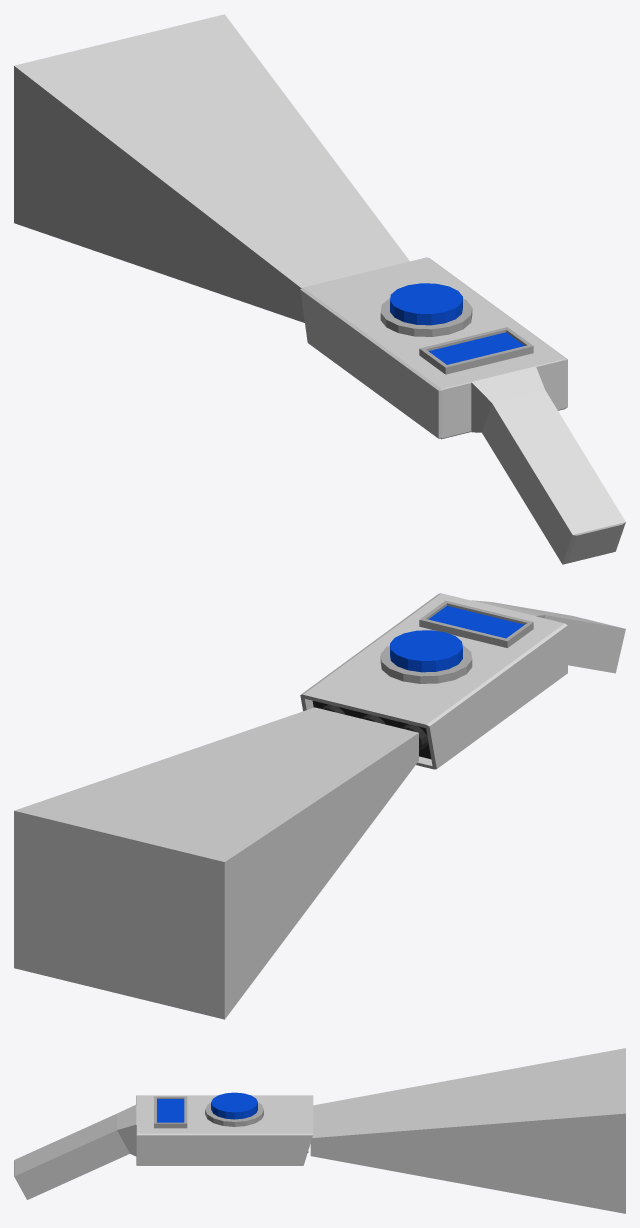
The model's file is PHMeterGun.fbx.
The picture shows the model from 3 angles, top to bottom: view 1: azimuth 30°, elevation 25°; view 2: azimuth 150°, elevation 25°; view 3: azimuth 270°, elevation 25°; orthographic projection. The views are drawn at different scales.
Visible parts, largest first — view 1: Beam Effector, Portal Gun; view 2: Beam Effector, Portal Gun; view 3: Beam Effector, Portal Gun.
Boxes of the visible parts, x1,y1,x2,y2 form: Beam Effector: [14, 14, 409, 322]; Portal Gun: [300, 257, 625, 564]; Beam Effector: [14, 707, 418, 1019]; Portal Gun: [300, 593, 625, 769]; Beam Effector: [310, 1048, 625, 1213]; Portal Gun: [14, 1092, 313, 1199].
Size of the model in its own units: 0.1578 by 0.1247 by 0.6225.
